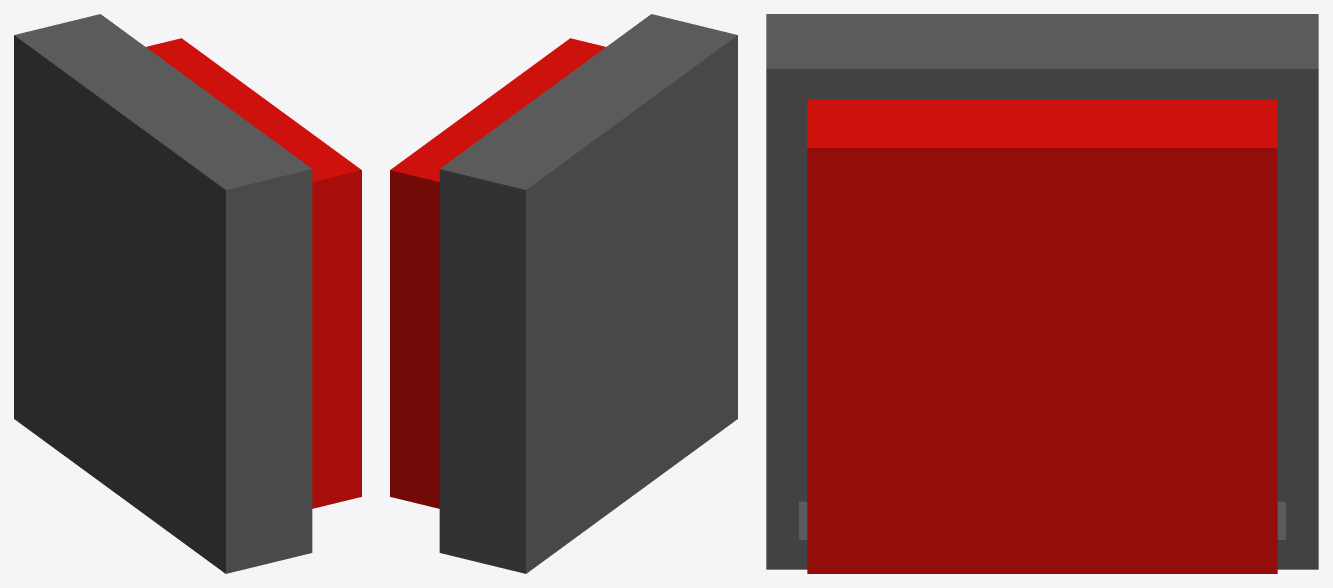
The model's file is Escape_Room_Knopf 1.fbx.
3 renders of one model, left to right at view 1: azimuth 30°, elevation 25°; view 2: azimuth 150°, elevation 25°; view 3: azimuth 270°, elevation 25°, orthographic. The views are drawn at different scales.
Parts seen in each view (by area): view 1: Cube, Cube.001; view 2: Cube, Cube.001; view 3: Cube.001, Cube.
Part boxes in pixels (box(x1,y1,x2,y2)): Cube: box(14, 14, 312, 573); Cube.001: box(146, 38, 361, 508); Cube: box(439, 14, 737, 573); Cube.001: box(390, 38, 605, 508); Cube.001: box(807, 99, 1277, 573); Cube: box(766, 14, 1318, 569).
Bounding box in the file's own units: 82.77 × 200 × 200.
